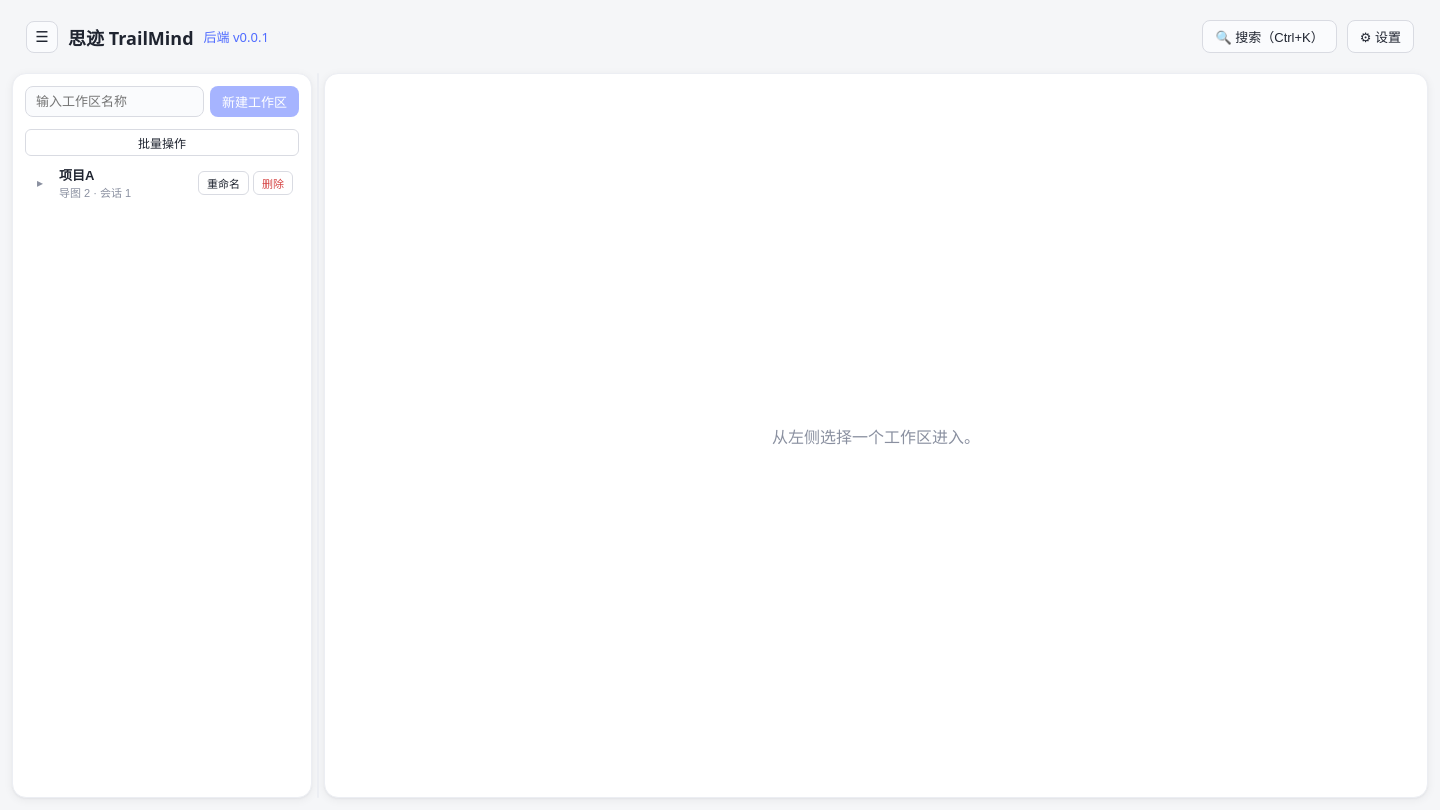
Test: App 首页 › 重命名时点击空白处退出且不保存（保留原内容）
Expected: the button "项目A 导图 2 · 会话 1" is shown, top-left (53, 164), bottom-right (194, 201)
Click the button "重命名" at (224, 182), box top-left (198, 170), bottom-right (249, 194)
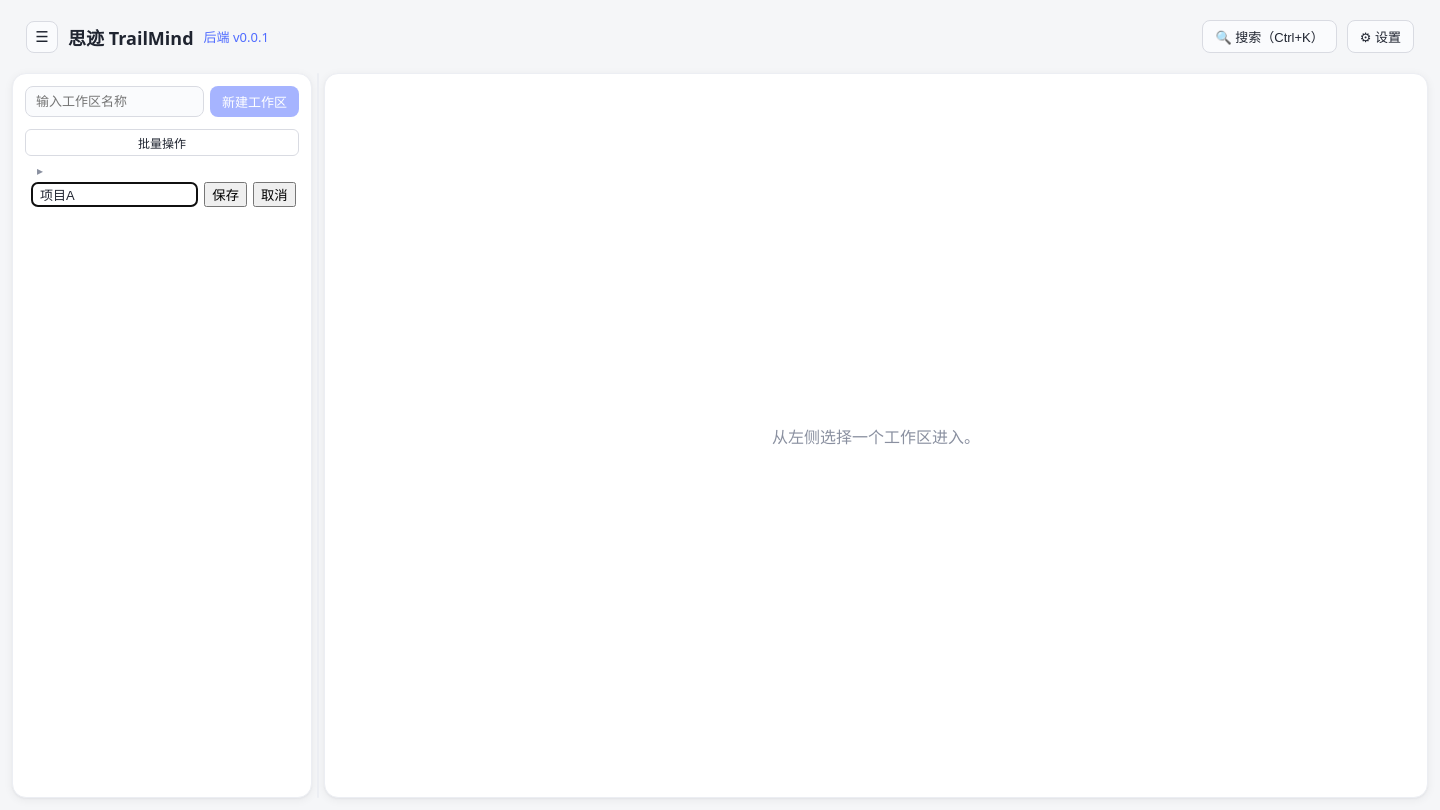
Replace the text in the field showing "项目A" with "项目B" at (115, 194), box top-left (31, 182), bottom-right (198, 207)
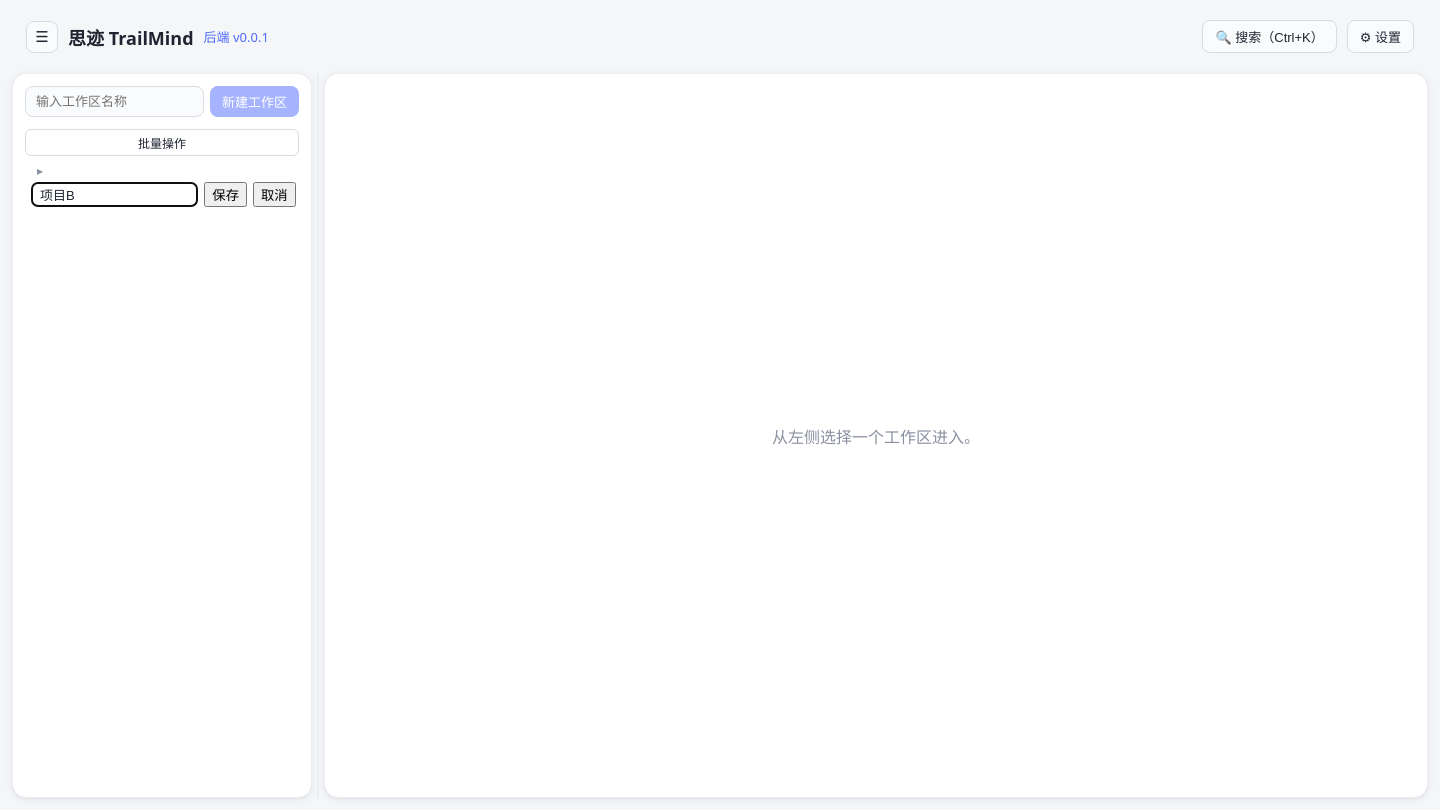
Leave the field showing "项目A", box top-left (31, 182), bottom-right (198, 207)
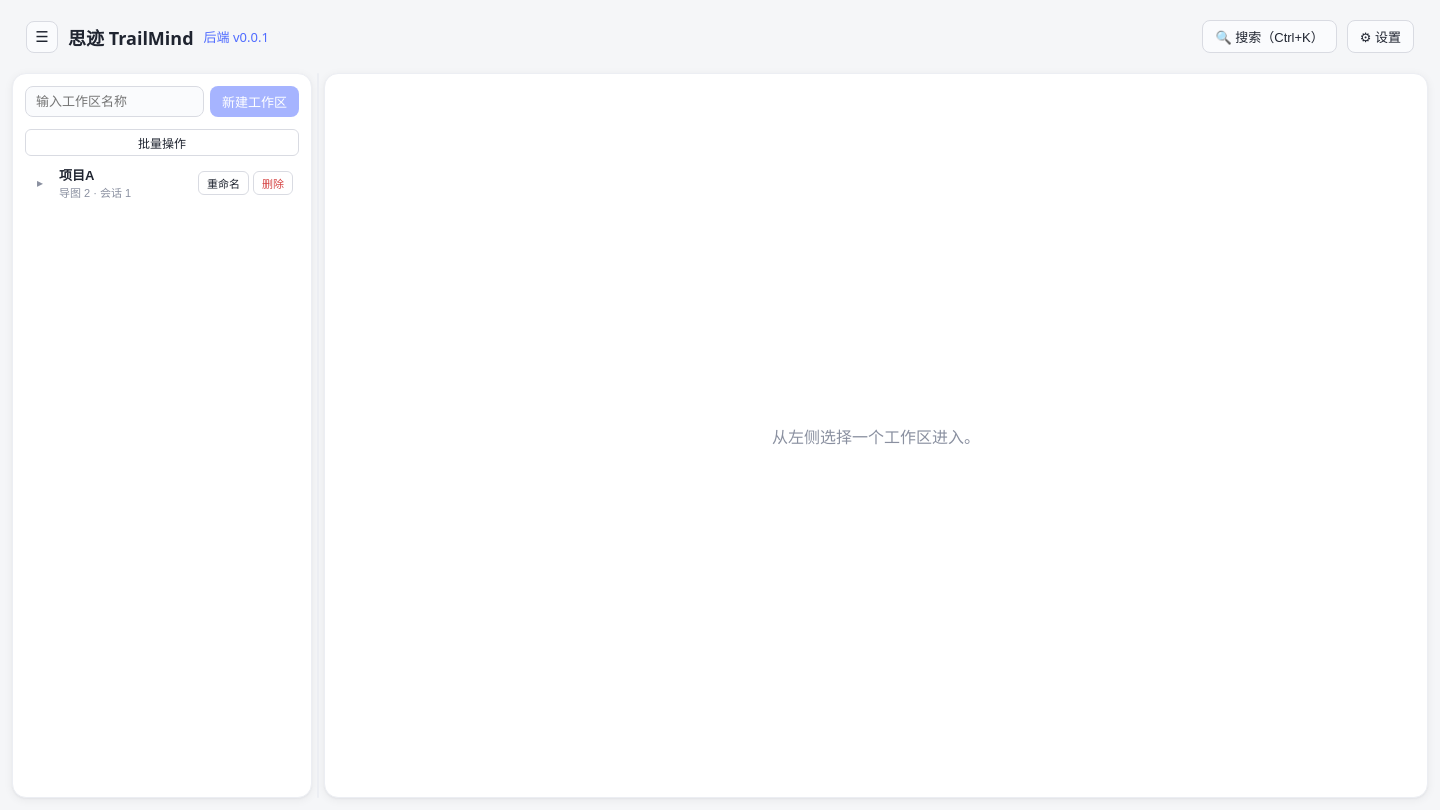
Expected: the field showing "项目B" is not shown
Expected: the button "项目A 导图 2 · 会话 1" is shown, top-left (53, 164), bottom-right (194, 201)
